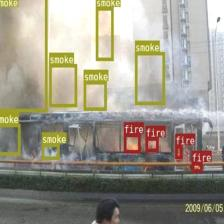fire: (124, 134, 140, 152), (145, 137, 158, 151), (191, 162, 202, 172), (174, 145, 182, 158)
smoke: (0, 0, 47, 111), (135, 51, 164, 104), (49, 63, 76, 107), (95, 6, 113, 60), (83, 80, 106, 110), (0, 122, 19, 154), (41, 143, 59, 159)
